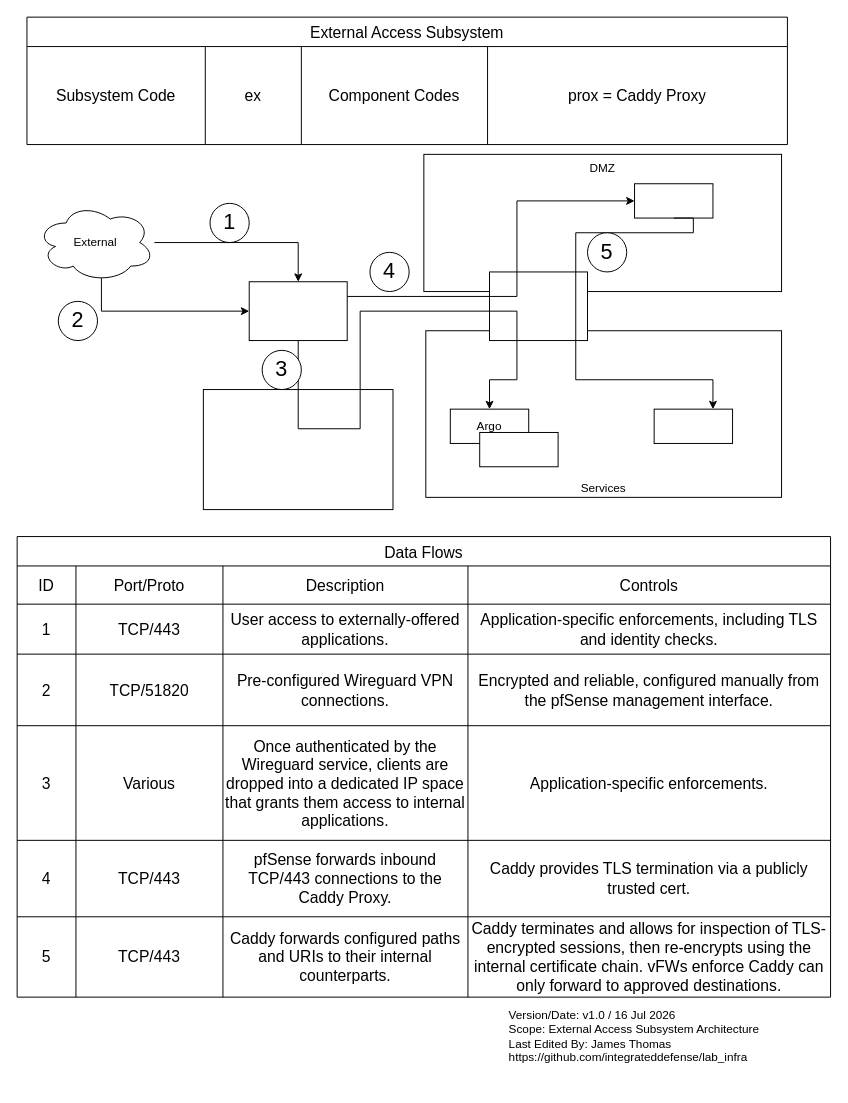
The diagram is 848 pixels wide and 1103 high, and some of its shapes have lost their labels. Each missing label, with the centre of its shape:
Caddy: point 673,200
GtiLab: point 518,449
Observer: point 693,425
pfSense: point 297,311
vFWs: point 538,306
VPN Clients: point 297,449
